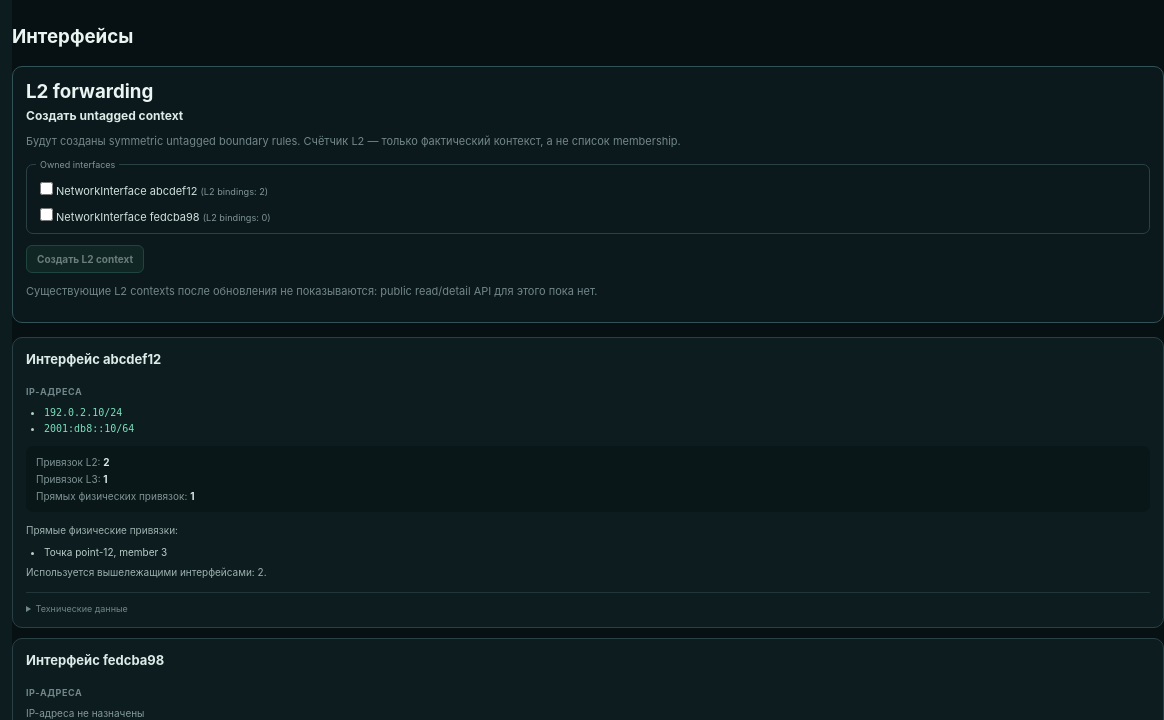
Test: DeviceInterfacesSection › shows a public L2 error without an optimistic success
Expected: the heading "L2 forwarding" is shown, [26, 80, 153, 103]
Click the checkbox labelled "NetworkInterface abcdef12 (L2 bindings: 2)". click: coordinates (46, 189)
box: [40, 182, 53, 195]
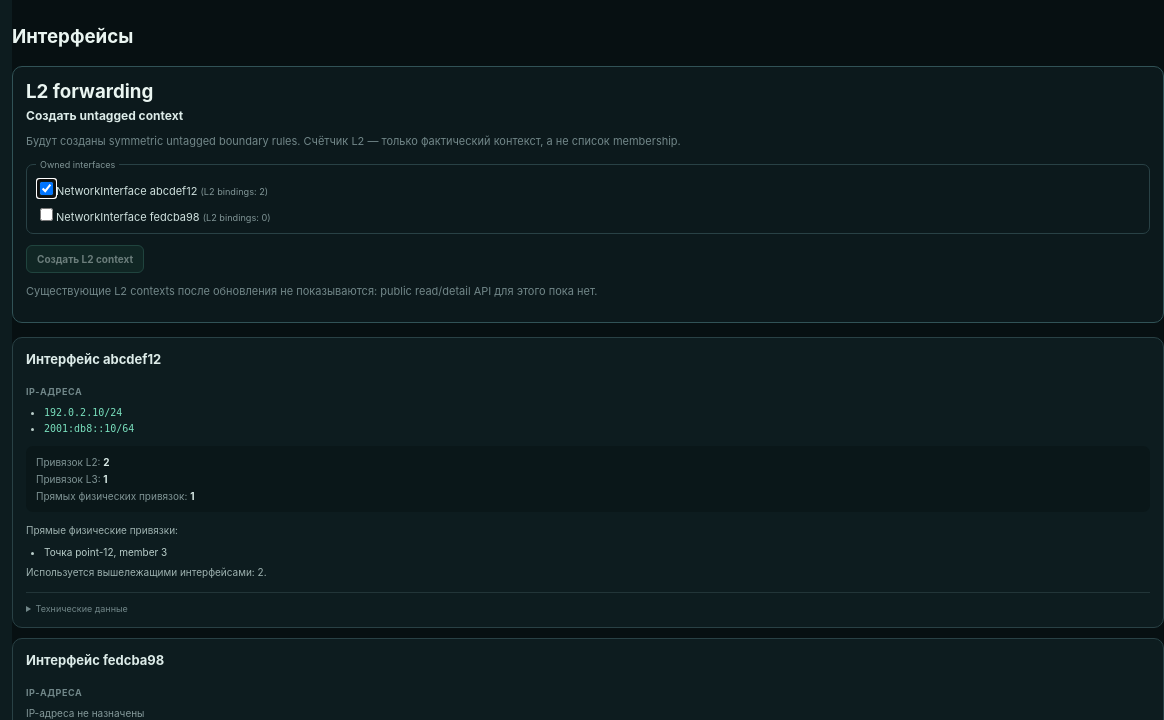
Click the checkbox labelled "NetworkInterface fedcba98 (L2 bindings: 0)". click: coordinates (46, 215)
box: [40, 208, 53, 221]
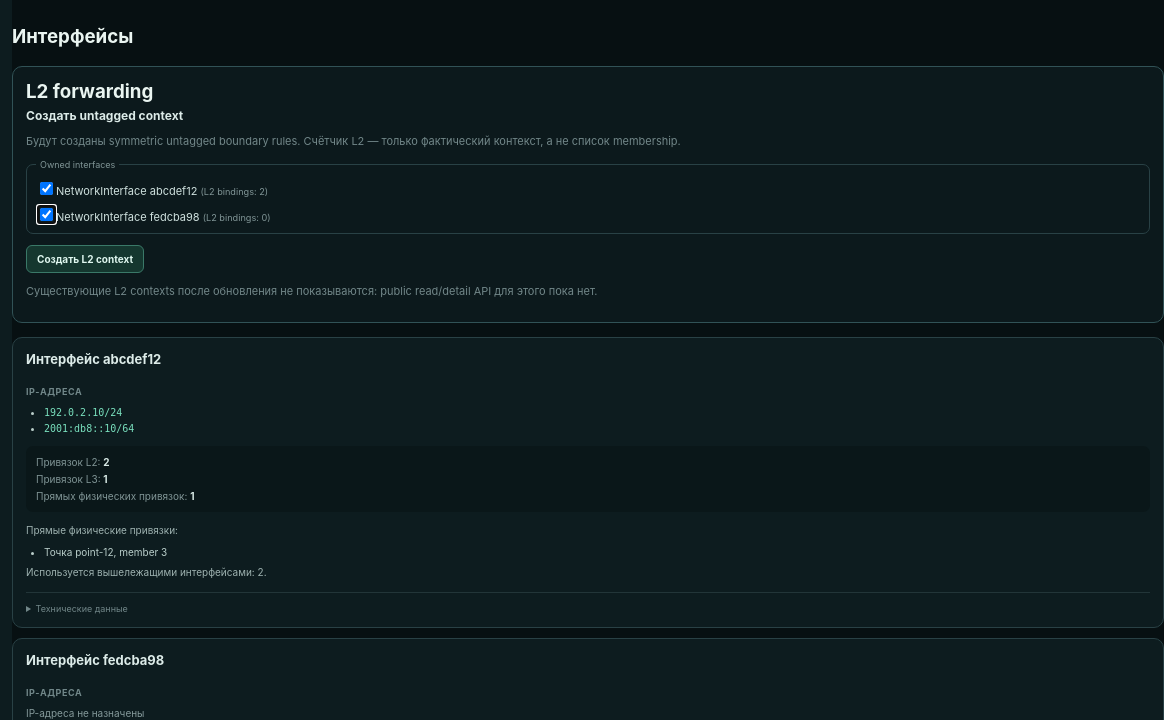
Click the button "Создать L2 context". click: coordinates (85, 259)
box: [26, 245, 144, 273]
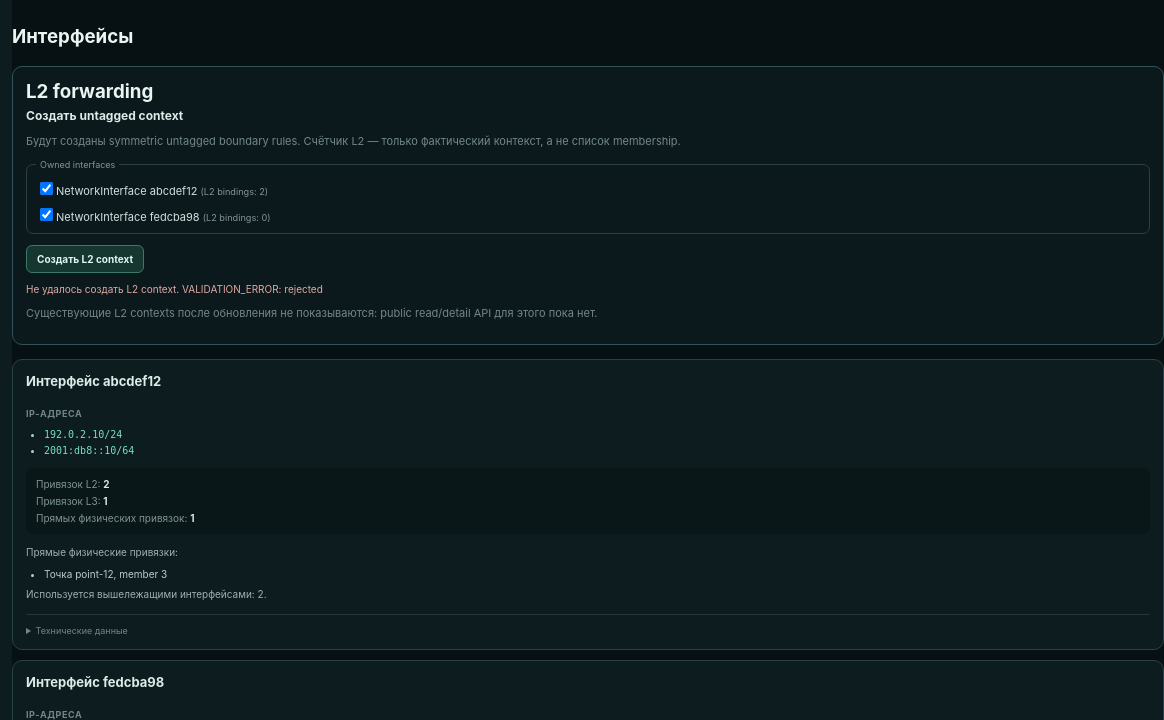
Result: the message shows "VALIDATION_ERROR: rejected" at [182, 283, 323, 295]
